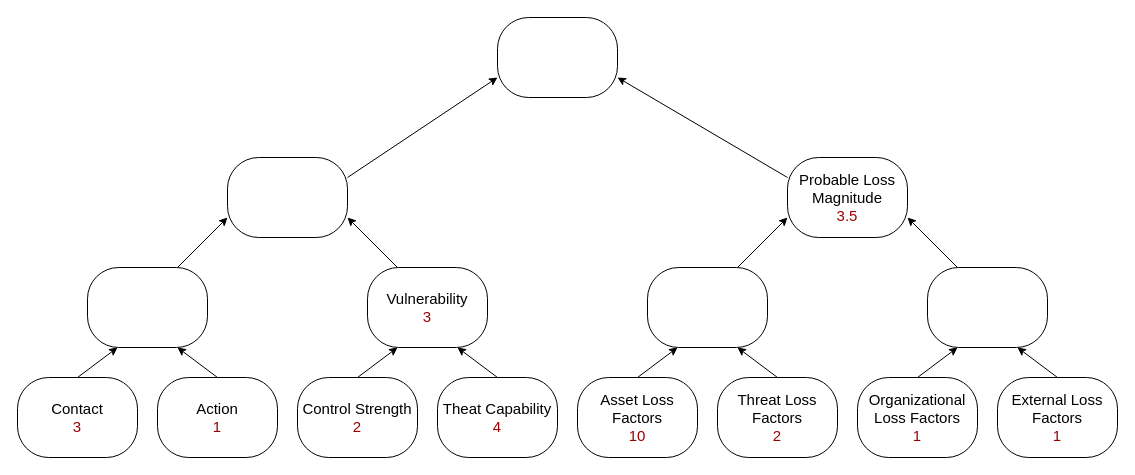
Image size: 1135x475. Some labels were removed from this diagram. The shapes that lost their labels are listed below. From the top down, each one's centre as x and y in pixels, then its label:
At pixel 557 57: "Risk 3".
At pixel 287 197: "Loss Event Frequency 2.5".
At pixel 147 307: "Threat Event Frequency 2".
At pixel 707 307: "Primary Loss Magnitude 6".
At pixel 987 307: "Secondary Loss Factors 1".
